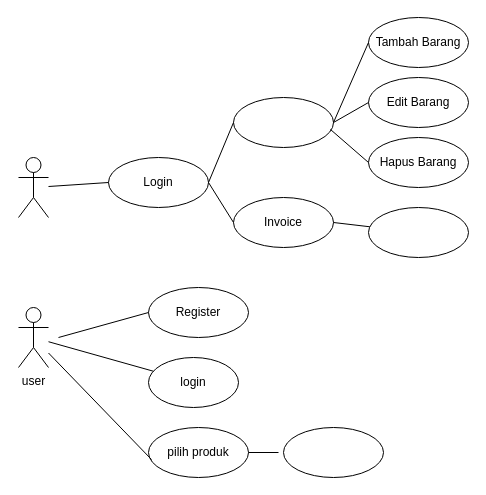
The diagram is 486 pixels wide and 495 high, and some of its shapes have lost their labels. The shapes that lost their labels are listed below. From the top down, each one's centre as x and y in pixels, then its label:
At pixel 283 122: "Data Barang".
At pixel 33 187: "admin".
At pixel 418 232: "detail Invoice".
At pixel 333 452: "transaksi".
